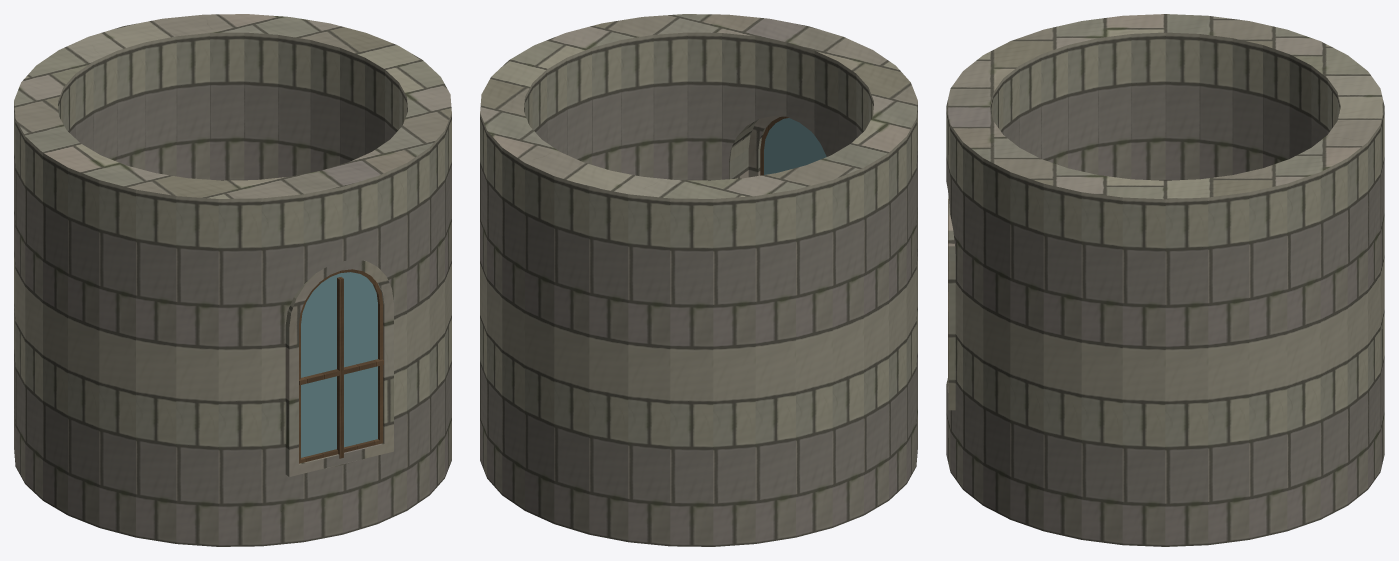
File: Furn_Tower_Slender.fbx
The picture shows the model from 3 angles, left to right: view 1: azimuth 30°, elevation 25°; view 2: azimuth 150°, elevation 25°; view 3: azimuth 270°, elevation 25°; orthographic projection.
Visible parts, largest first — view 1: Furn_Tower_Slender_Mesh; view 2: Furn_Tower_Slender_Mesh; view 3: Furn_Tower_Slender_Mesh.
Part boxes in pixels (x1=…): Furn_Tower_Slender_Mesh: x1=14, y1=14, x2=451, y2=546; Furn_Tower_Slender_Mesh: x1=480, y1=14, x2=917, y2=546; Furn_Tower_Slender_Mesh: x1=946, y1=14, x2=1384, y2=546.
Bounding box in the file's own units: 4 × 3.5 × 4.
